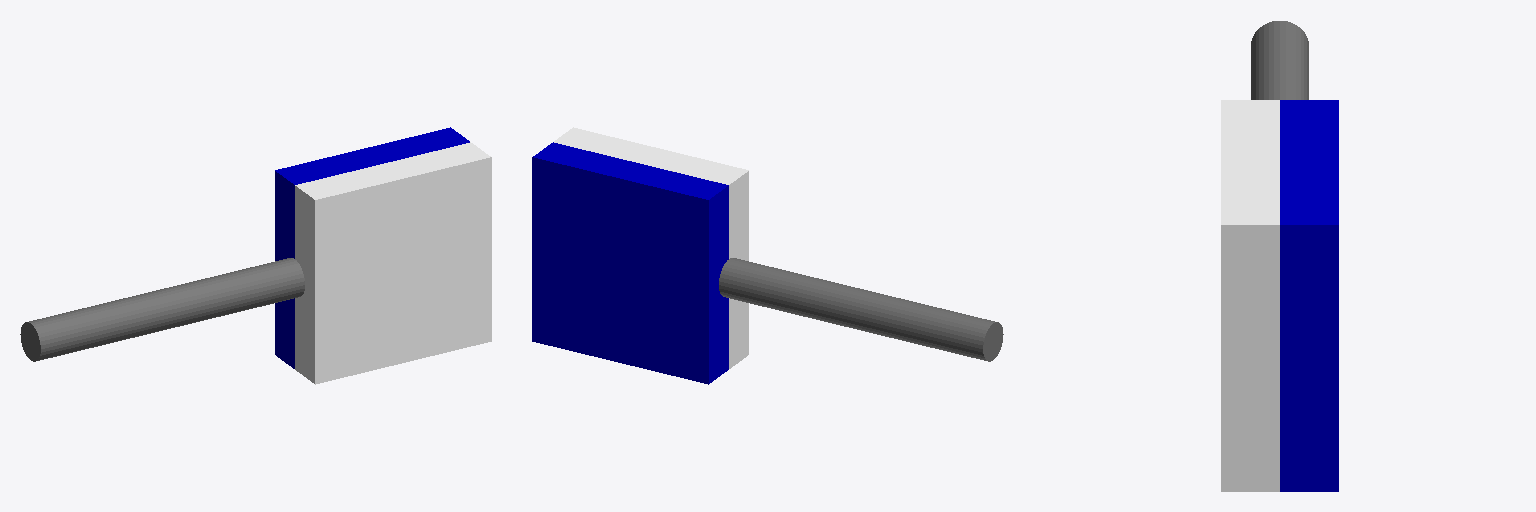
The robot description file, URDF, robot "gripper":
<?xml version="1.0"?>
<robot name="gripper">

    <material name="blue">
        <color rgba="0 0 0.8 1"/>
    </material>

    <material name="white">
        <color rgba="1 1 1 1"/>
    </material>

    <material name="grey">
        <color rgba=".5 .5 .5 1"/>
    </material>

    <link name="base_link">
        <visual>
            <geometry>
                <cylinder length="0.2" radius="0.01"/>
            </geometry>
            <origin rpy="0 1.57075 0 " xyz="0.1 0 0"/>
            <material name="grey"/>
        </visual>
    </link>

  <joint name="left_gripper_joint" type="planar">
    <origin rpy="0 0 0" xyz="0.2 0.01 0"/>
    <parent link="base_link"/>
    <child link="left_gripper"/>
  </joint>

  <link name="left_gripper">
    <visual>
      <origin rpy="0.0 0 0" xyz="0 0 0"/>
      <geometry>
        <box size="0.1 0.02 0.1"/>
      </geometry>
      <material name="blue"/>
    </visual>
  </link>

  <joint name="left_tip_joint" type="fixed">
    <parent link="left_gripper"/>
    <child link="left_tip"/>
  </joint>

  <link name="left_tip">
    <visual>zz
      <origin rpy="0.0 0 0" xyz="0.09137 0.00495 0"/>
      <geometry>
        <mesh filename="package://urdf_tutorial/meshes/l_finger_tip.dae"/>
      </geometry>
    </visual>
  </link>
  <joint name="right_gripper_joint" type="planar">
    <origin rpy="0 0 0" xyz="0.2 -0.01 0"/>
    <parent link="base_link"/>
    <child link="right_gripper"/>
  </joint>

  <link name="right_gripper">
    <visual>
      <origin rpy="-3.1415 0 0" xyz="0 0 0"/>
      <geometry>
          <box size="0.1 0.02 0.1"/>
      </geometry>
      <material name="white"/>
    </visual>
  </link>

  <joint name="right_tip_joint" type="fixed">
    <parent link="right_gripper"/>
    <child link="right_tip"/>
  </joint>

  <link name="right_tip">
    <visual>
      <origin rpy="-3.1415 0 0" xyz="0.09137 0.00495 0"/>
      <geometry>
        <mesh filename="package://urdf_tutorial/meshes/l_finger_tip.dae"/>
      </geometry>
    </visual>
  </link>
</robot>

--- Facts derived from the render (not from the file) ---
3 views of the same robot in one strip: view 1: azimuth 30°, elevation 25°; view 2: azimuth 150°, elevation 25°; view 3: azimuth 270°, elevation 25° (orthographic).
Robot: gripper — 5 links, 4 joints (2 fixed, 2 planar); root link base_link; default pose: all joints at 0.
Links seen in each view (by area): view 1: right_gripper, base_link, left_gripper; view 2: left_gripper, base_link, right_gripper; view 3: left_gripper, right_gripper, base_link.
Link boxes in pixels (<box>): right_gripper: <box>295,142,491,384</box>; base_link: <box>20,258,304,361</box>; left_gripper: <box>275,127,469,368</box>; left_gripper: <box>532,142,728,384</box>; base_link: <box>719,258,1003,361</box>; right_gripper: <box>554,127,748,368</box>; left_gripper: <box>1280,100,1338,491</box>; right_gripper: <box>1221,100,1279,491</box>; base_link: <box>1251,21,1308,99</box>.
Bounding box of the posed robot: 0.25 × 0.04 × 0.1 m (x, y, z).
Meshes: 1 distinct files referenced, 0 mesh visuals loaded (none loaded); not drawn: 2 (reference not matched to a file when rendering).